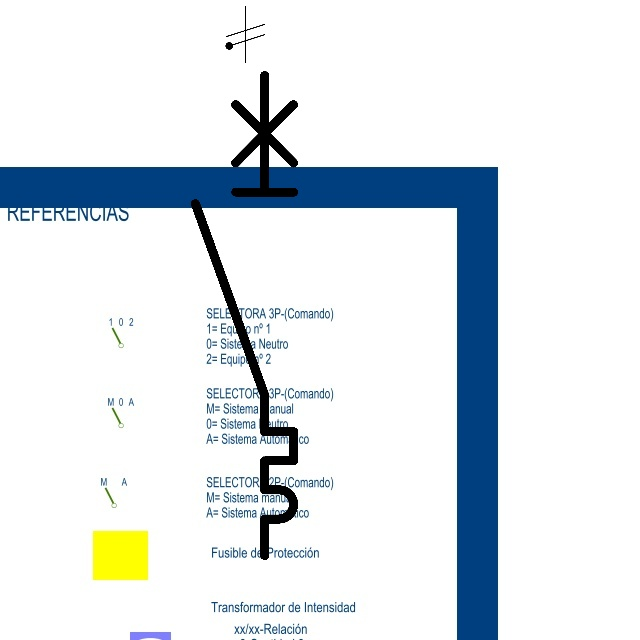interruptor_termomagnetico: (183, 63, 306, 568)
